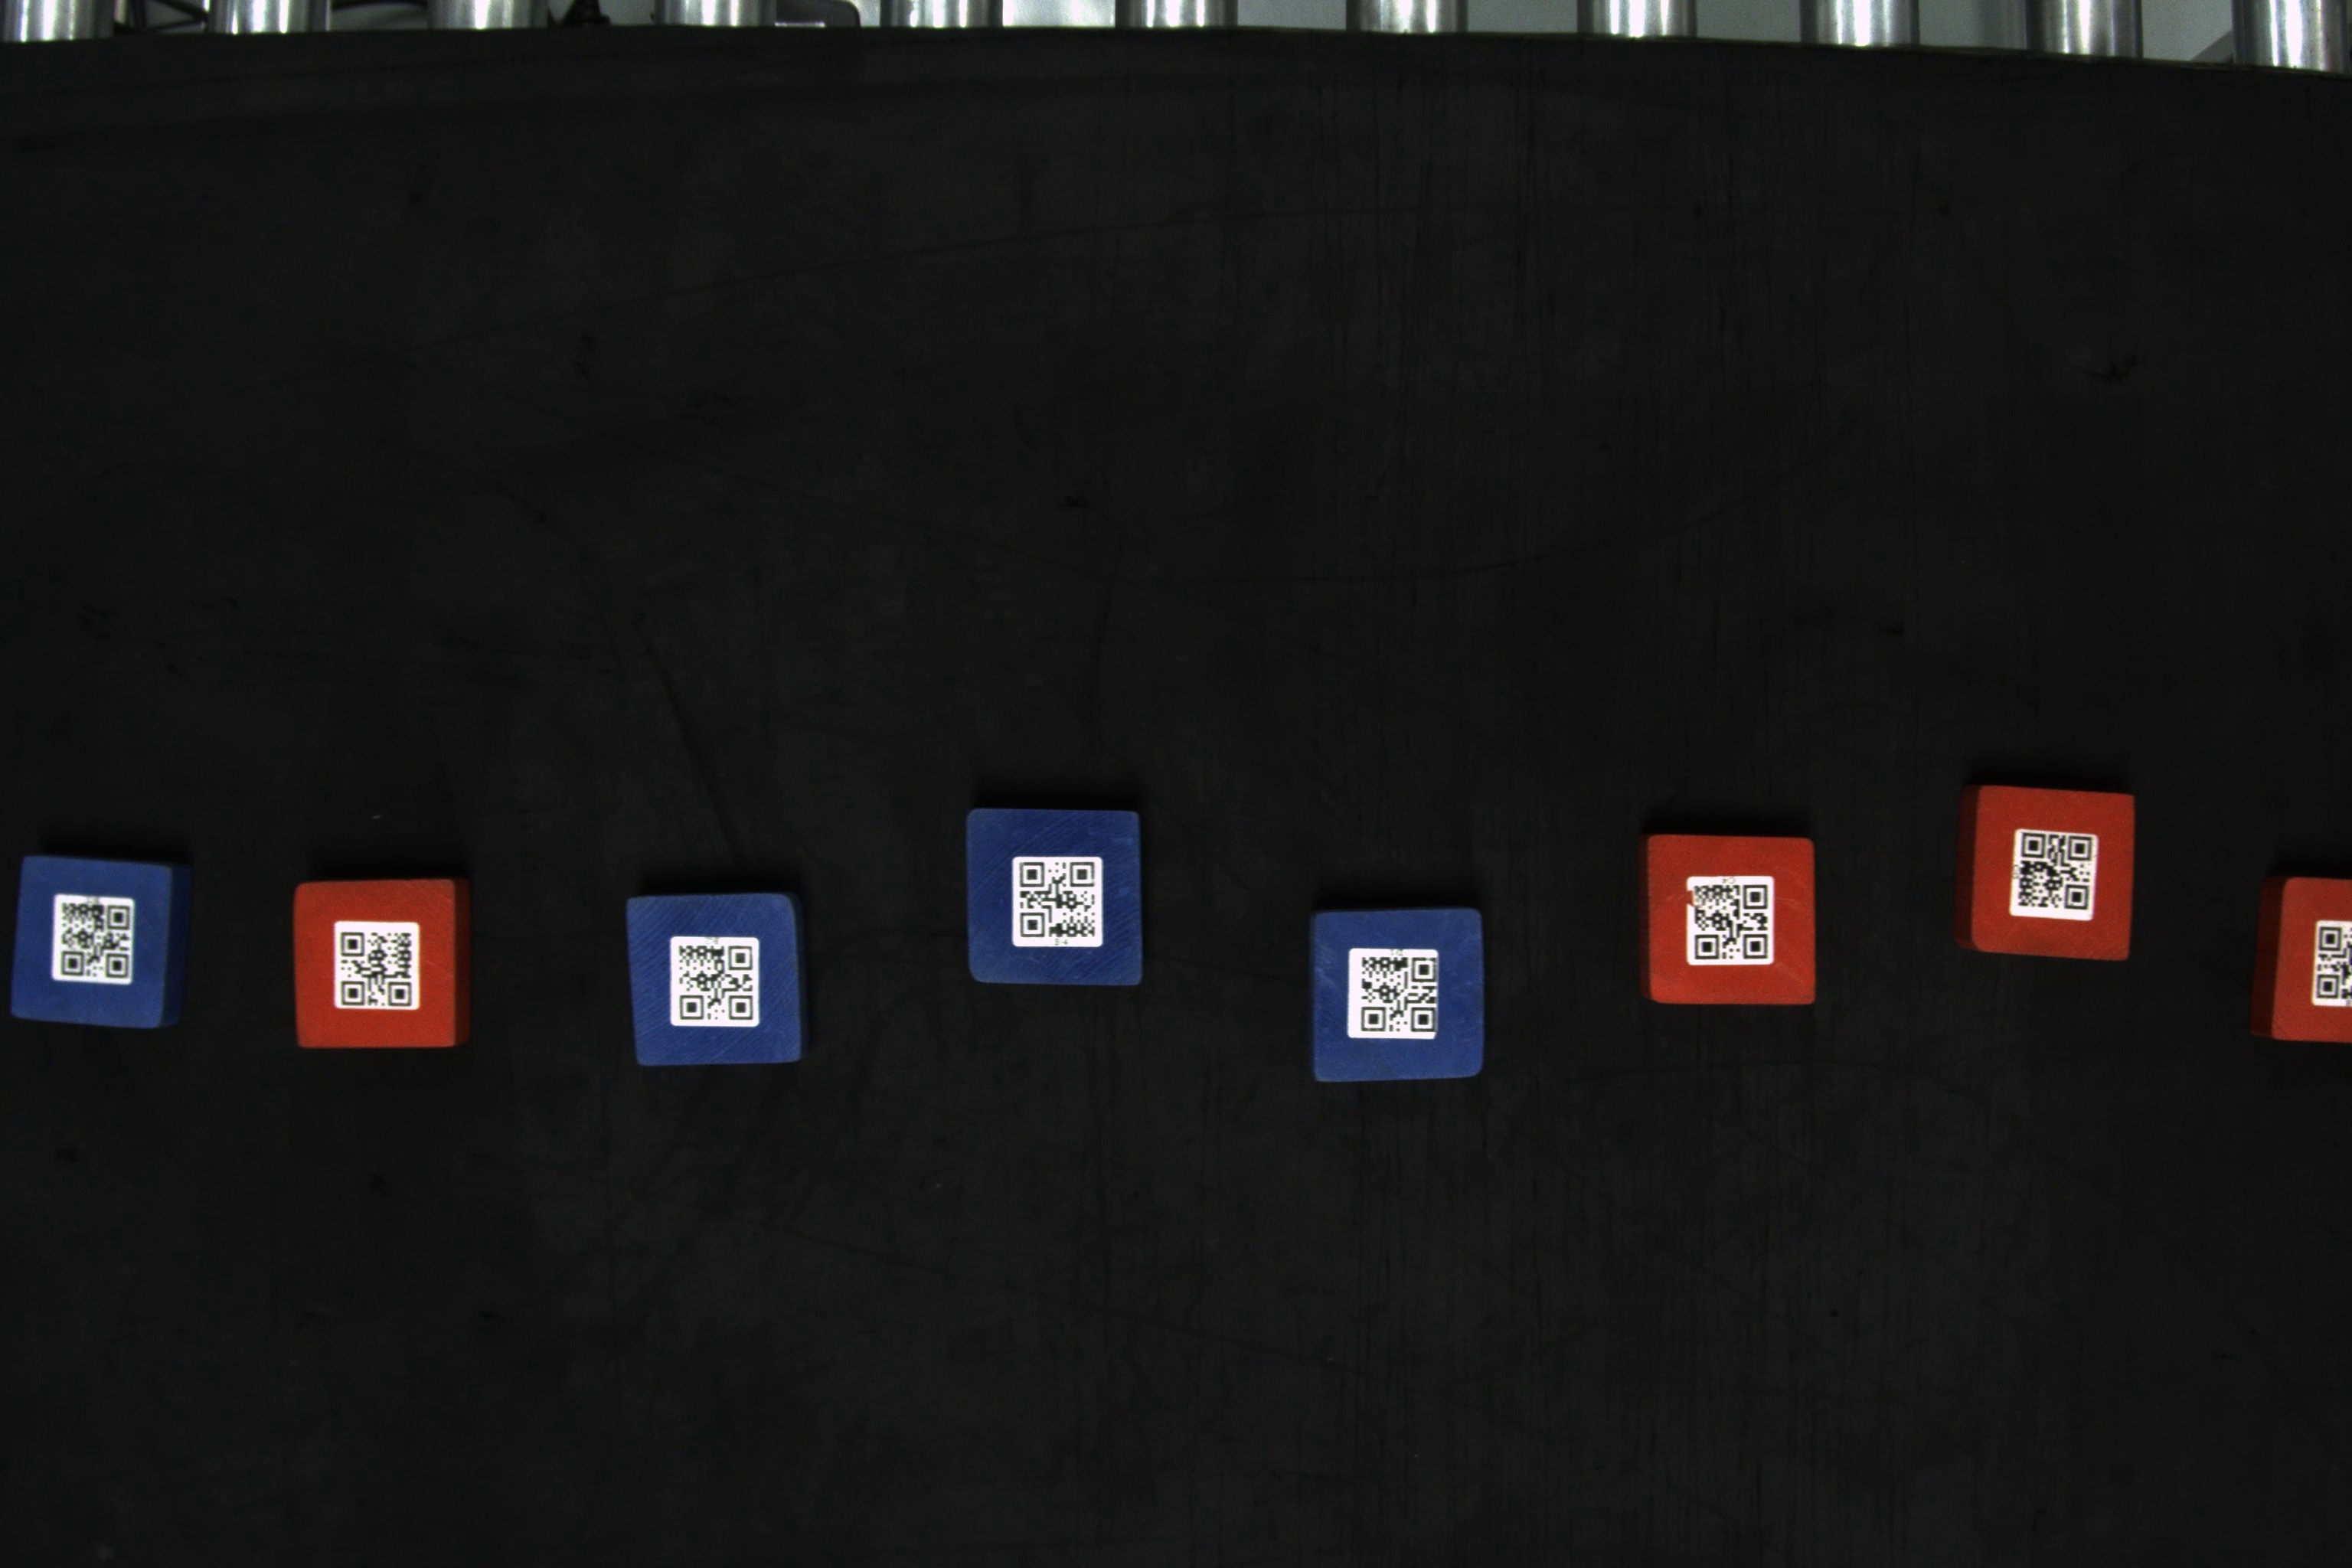wood: (962, 794, 1151, 990), (618, 889, 815, 1073), (3, 847, 196, 1034), (282, 871, 476, 1055), (1958, 780, 2142, 973), (1634, 826, 1827, 1008), (1307, 906, 1494, 1087), (2250, 873, 2347, 1048)
